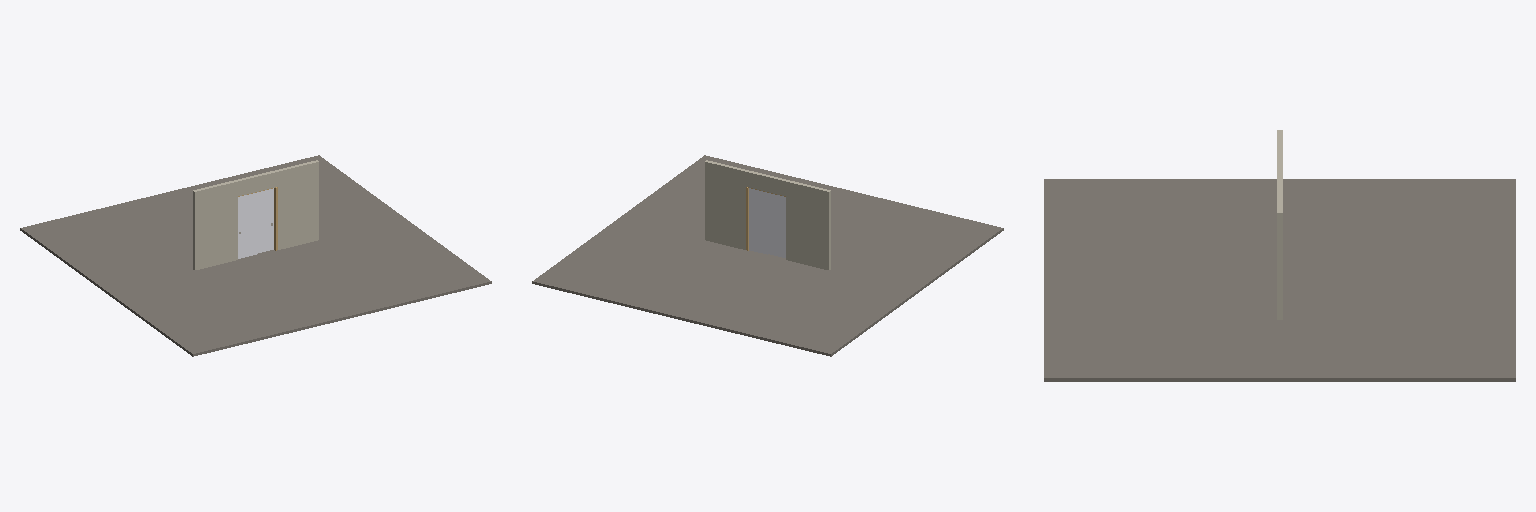
The robot description file, URDF, robot "db0057_sliding_bypass_full":
<?xml version="1.0" ?>
<robot xmlns:doorbench="https://github.com/adamraudonis/DoorBench/schema/urdf-ext" name="db0057_sliding_bypass_full">
  <link name="world_env">
    <visual name="floor_vis">
      <origin xyz="0 0 -0.05" rpy="0 0 0"/>
      <geometry>
        <box size="12 12 0.1"/>
      </geometry>
      <material name="mat_floor"/>
    </visual>
    <collision name="floor_col">
      <origin xyz="0 0 -0.05" rpy="0 0 0"/>
      <geometry>
        <box size="12 12 0.1"/>
      </geometry>
    </collision>
    <visual name="wall_left_vis">
      <origin xyz="-1.6355 0 1.51" rpy="0 0 0"/>
      <geometry>
        <box size="1.729 0.145 3.02"/>
      </geometry>
      <material name="mat_wall"/>
    </visual>
    <collision name="wall_left_col">
      <origin xyz="-1.6355 0 1.51" rpy="0 0 0"/>
      <geometry>
        <box size="1.729 0.145 3.02"/>
      </geometry>
    </collision>
    <visual name="wall_right_vis">
      <origin xyz="1.6655 0 1.51" rpy="0 0 0"/>
      <geometry>
        <box size="1.669 0.145 3.02"/>
      </geometry>
      <material name="mat_wall"/>
    </visual>
    <collision name="wall_right_col">
      <origin xyz="1.6655 0 1.51" rpy="0 0 0"/>
      <geometry>
        <box size="1.669 0.145 3.02"/>
      </geometry>
    </collision>
    <visual name="wall_header_vis">
      <origin xyz="0.03 0 2.7295" rpy="0 0 0"/>
      <geometry>
        <box size="1.602 0.145 0.581"/>
      </geometry>
      <material name="mat_wall"/>
    </visual>
    <collision name="wall_header_col">
      <origin xyz="0.03 0 2.7295" rpy="0 0 0"/>
      <geometry>
        <box size="1.602 0.145 0.581"/>
      </geometry>
    </collision>
    <visual name="jamb_l_vis">
      <origin xyz="-0.7615 0 1.21" rpy="0 0 0"/>
      <geometry>
        <box size="0.019 0.145 2.42"/>
      </geometry>
      <material name="mat_frame"/>
    </visual>
    <collision name="jamb_l_col">
      <origin xyz="-0.7615 0 1.21" rpy="0 0 0"/>
      <geometry>
        <box size="0.019 0.145 2.42"/>
      </geometry>
    </collision>
    <visual name="jamb_head_vis">
      <origin xyz="0 0 2.4295" rpy="0 0 0"/>
      <geometry>
        <box size="1.542 0.145 0.019"/>
      </geometry>
      <material name="mat_frame"/>
    </visual>
    <collision name="jamb_head_col">
      <origin xyz="0 0 2.4295" rpy="0 0 0"/>
      <geometry>
        <box size="1.542 0.145 0.019"/>
      </geometry>
    </collision>
    <visual name="leaf_0_track_header_vis">
      <origin xyz="-0.002 -0.028 2.479" rpy="0 0 0"/>
      <geometry>
        <box size="1.594 0.05 0.08"/>
      </geometry>
      <material name="mat_track"/>
    </visual>
    <collision name="leaf_0_track_header_col">
      <origin xyz="-0.002 -0.028 2.479" rpy="0 0 0"/>
      <geometry>
        <box size="1.594 0.05 0.08"/>
      </geometry>
    </collision>
    <visual name="leaf_1_track_header_vis">
      <origin xyz="0.002 0.028 2.479" rpy="0 0 0"/>
      <geometry>
        <box size="1.594 0.05 0.08"/>
      </geometry>
      <material name="mat_track"/>
    </visual>
    <collision name="leaf_1_track_header_col">
      <origin xyz="0.002 0.028 2.479" rpy="0 0 0"/>
      <geometry>
        <box size="1.594 0.05 0.08"/>
      </geometry>
    </collision>
    <visual name="jamb_latch_0_vis">
      <origin xyz="0.7915 0 1.21" rpy="0 0 0"/>
      <geometry>
        <box size="0.079 0.145 2.42"/>
      </geometry>
      <material name="mat_frame"/>
    </visual>
    <collision name="jamb_latch_0_col">
      <origin xyz="0.7915 0 1.21" rpy="0 0 0"/>
      <geometry>
        <box size="0.079 0.145 2.42"/>
      </geometry>
    </collision>
  </link>
  <link name="leaf_0">
    <inertial>
      <origin xyz="-0.000053 -0.000001 1.211961" rpy="0 0 0"/>
      <mass value="27.532"/>
      <inertia ixx="13.213263971" ixy="-0.000005109" ixz="-0.000309472" iyy="14.545555278" iyz="-0.000003722" izz="1.332456593"/>
    </inertial>
    <visual name="leaf_0_glass_vis">
      <origin xyz="0 0 1.212" rpy="0 0 0"/>
      <geometry>
        <box size="0.762 0.006 2.4"/>
      </geometry>
      <material name="mat_glass_leaf"/>
    </visual>
    <collision name="leaf_0_glass_col">
      <origin xyz="0 0 1.212" rpy="0 0 0"/>
      <geometry>
        <box size="0.762 0.006 2.4"/>
      </geometry>
    </collision>
    <visual name="leaf_0_pull_n_vis">
      <origin xyz="-0.291 -0.0035 1" rpy="0 0 0"/>
      <geometry>
        <box size="0.05 0.001 0.1"/>
      </geometry>
      <material name="mat_op_nickel_satin"/>
    </visual>
  </link>
  <link name="leaf_1">
    <inertial>
      <origin xyz="0.000053 -0.000001 1.211961" rpy="0 0 0"/>
      <mass value="27.532"/>
      <inertia ixx="13.213263971" ixy="0.000005109" ixz="0.000309472" iyy="14.545555278" iyz="-0.000003722" izz="1.332456593"/>
    </inertial>
    <visual name="leaf_1_glass_vis">
      <origin xyz="0 0 1.212" rpy="0 0 0"/>
      <geometry>
        <box size="0.762 0.006 2.4"/>
      </geometry>
      <material name="mat_glass_leaf"/>
    </visual>
    <collision name="leaf_1_glass_col">
      <origin xyz="0 0 1.212" rpy="0 0 0"/>
      <geometry>
        <box size="0.762 0.006 2.4"/>
      </geometry>
    </collision>
    <visual name="leaf_1_pull_n_vis">
      <origin xyz="0.291 -0.0035 1" rpy="0 0 0"/>
      <geometry>
        <box size="0.05 0.001 0.1"/>
      </geometry>
      <material name="mat_op_nickel_satin"/>
    </visual>
  </link>
  <joint name="leaf_0_slide" type="prismatic">
    <origin xyz="-0.368 -0.028 0" rpy="0 0 0"/>
    <parent link="world_env"/>
    <child link="leaf_0"/>
    <axis xyz="1 0 0"/>
    <limit lower="0" upper="0.716" effort="5000" velocity="10"/>
    <dynamics damping="3.3816" friction="10.568117"/>
  </joint>
  <joint name="leaf_1_slide" type="prismatic">
    <origin xyz="0.368 0.028 0" rpy="0 0 0"/>
    <parent link="world_env"/>
    <child link="leaf_1"/>
    <axis xyz="-1 0 0"/>
    <limit lower="0" upper="0.716" effort="5000" velocity="10"/>
    <dynamics damping="3.3816" friction="10.568117"/>
  </joint>
  <material name="mat_floor">
    <color rgba="0.55 0.53 0.5 1"/>
  </material>
  <material name="mat_frame">
    <color rgba="0.82 0.7 0.5 1"/>
  </material>
  <material name="mat_glass_leaf">
    <color rgba="0.95 0.95 0.97 1"/>
  </material>
  <material name="mat_op_nickel_satin">
    <color rgba="0.72 0.7 0.66 1"/>
  </material>
  <material name="mat_track">
    <color rgba="0.8 0.81 0.83 1"/>
  </material>
  <material name="mat_wall">
    <color rgba="0.78 0.76 0.7 1"/>
  </material>
</robot>

--- Facts derived from the render (not from the file) ---
The picture shows the robot from 3 angles, left to right: view 1: azimuth 30°, elevation 25°; view 2: azimuth 150°, elevation 25°; view 3: azimuth 270°, elevation 25°; orthographic projection.
Model db0057_sliding_bypass_full with 3 links and 2 joints (2 prismatic), rooted at world_env, posed all joints at 0.
Links seen in each view (by area): view 1: world_env, leaf_0, leaf_1; view 2: world_env, leaf_1, leaf_0; view 3: world_env.
Boxes of the visible links, x1,y1,x2,y2 form: world_env: (20,155,491,356); leaf_0: (238,193,256,258); leaf_1: (257,188,273,253); world_env: (532,155,1003,356); leaf_1: (749,188,767,254); leaf_0: (768,193,785,257); world_env: (1044,130,1515,381).
Size in the robot's own frame: 12 by 12 by 3.12 metres.
Geometry: primitives only (box / cylinder / sphere), no mesh files.
